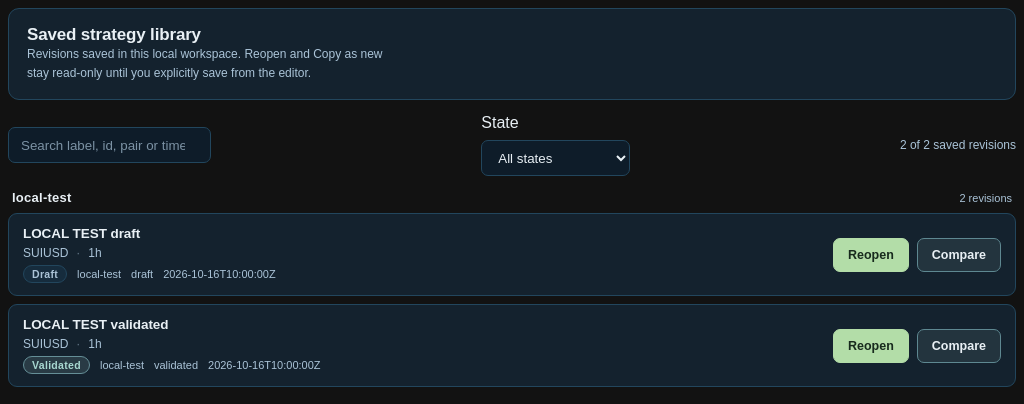
Test: SavedStrategyLibrary search toolbar accessibility › keeps the in-input Escape clear behavior byte-equal in effect
The image size is (1024, 404).
Expected: the text "2 of 2 saved revisions" is shown, [900,138,1016,152]
In the search field with test id "library-search": (110, 145) [8,127,211,163], type "draft"
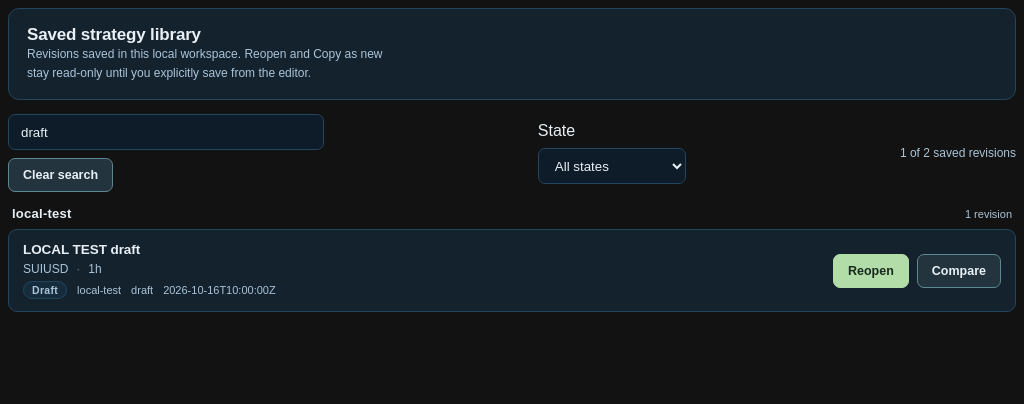
Press Escape in the search field with test id "library-search", box [8,114,324,150]
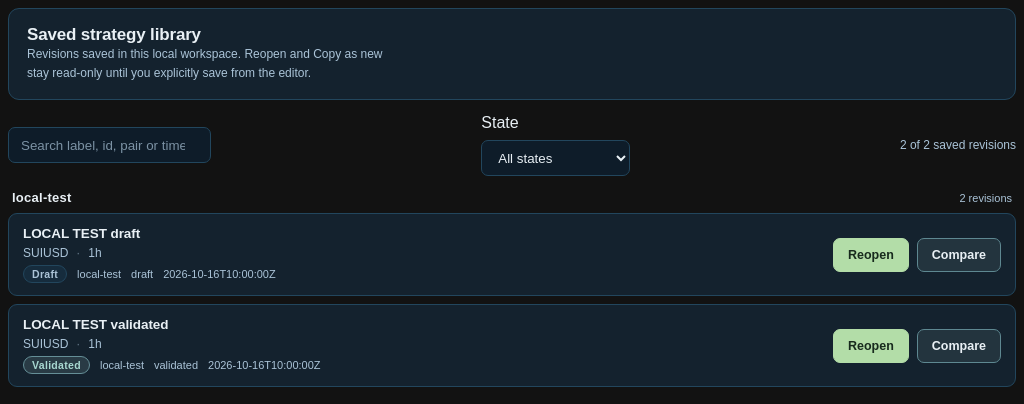
Expected: the search field with test id "library-search" is empty, [8,127,211,163]
Expected: the button with test id "library-search-clear" is gone
Expected: the number of list items with test id "library-row" is 2, [8,213,1016,296]; [8,304,1016,387]
